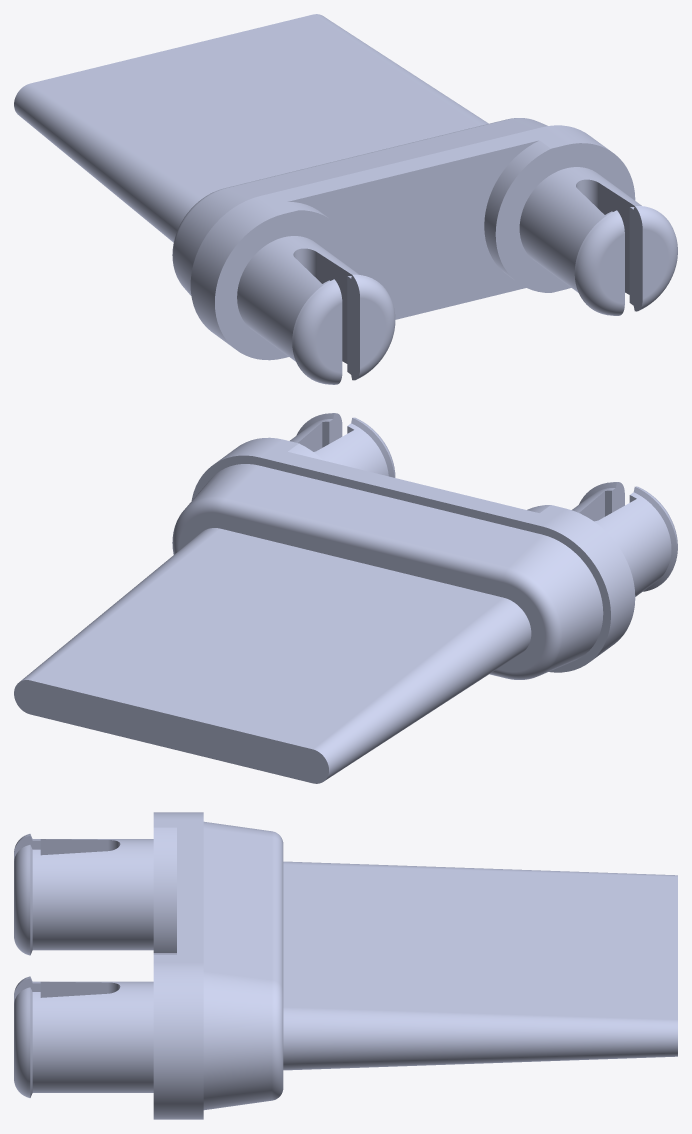
3 renders of one model, top to bottom at view 1: azimuth 30°, elevation 25°; view 2: azimuth 150°, elevation 25°; view 3: azimuth 270°, elevation 25°, orthographic. The views are drawn at different scales.
Parts seen in each view (by area): view 1: NAUO1, NAUO2; view 2: NAUO2, NAUO1; view 3: NAUO2, NAUO1.
Part boxes in pixels (left/top/right/bottom): NAUO1: left=190, top=125, right=677, bottom=384; NAUO2: left=14, top=14, right=547, bottom=295; NAUO2: left=14, top=464, right=603, bottom=783; NAUO1: left=191, top=413, right=677, bottom=672; NAUO2: left=203, top=821, right=677, bottom=1110; NAUO1: left=14, top=812, right=203, bottom=1119.
Size of the model in its own units: 0.0189 by 0.0062 by 0.025.
